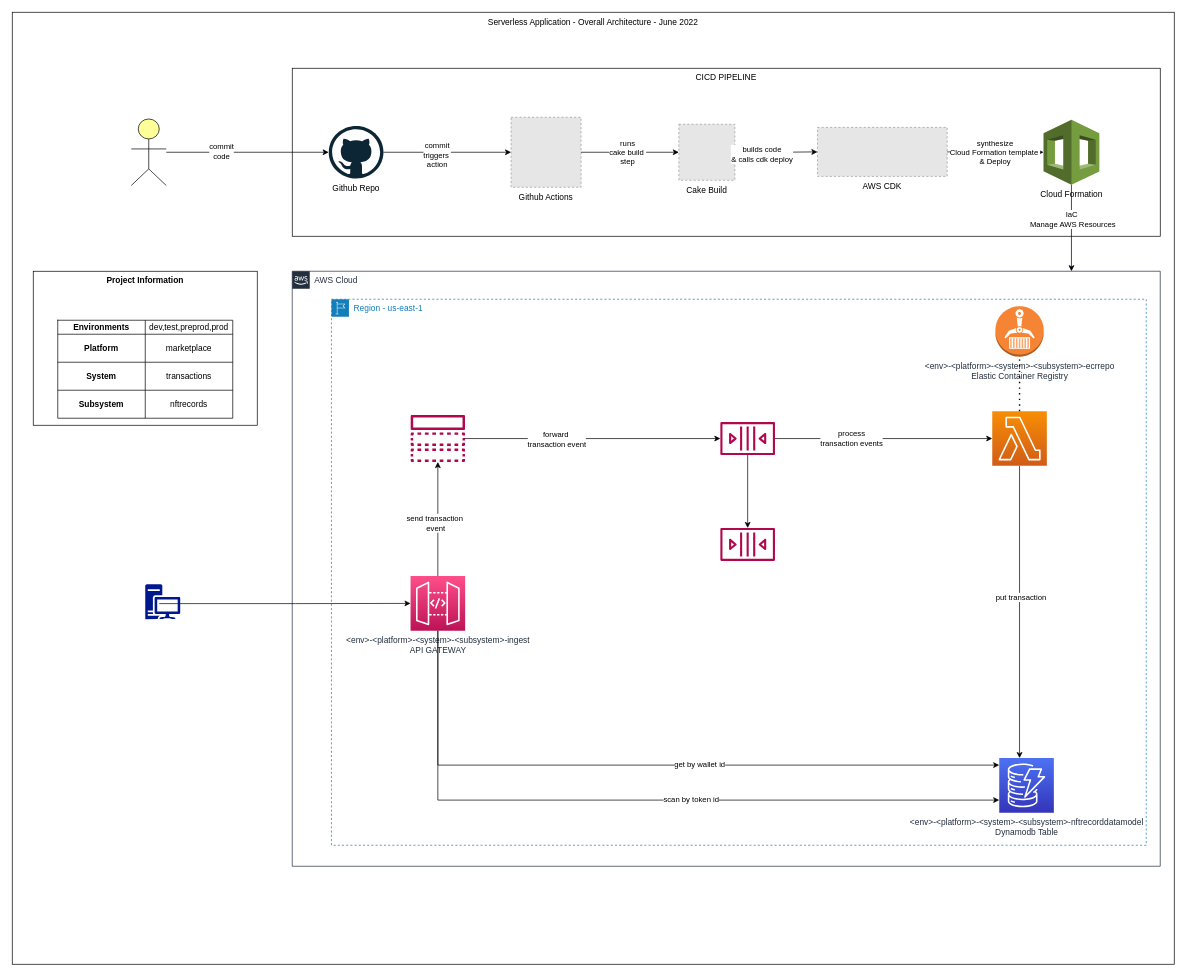
This 1187x977 diagram has some shape labels left out. Grey dashed boxes stand in for pictures. Here are the shapes that lost their labels. From the top down, the centre of each, then its label:
At point 148,152: "Developer".
At point 437,438: "<env>-<platform>-<system>-<subsystem>-eventTopic SNS FIFO Topic".
At point 747,438: "<env>-<platform>-<system>-<subsystem>-eventqueue.fifo SQS FIFO Queue".
At point 1019,438: "<env>-<platform>-<system>-<subsystem>-event-processor-lam Lambda Function".
At point 747,544: "<env>-<platform>-<system>-<subsystem>-eventqueue-deadletter.fifo SQS FIFO Queue".
At point 162,601: "Clients".
